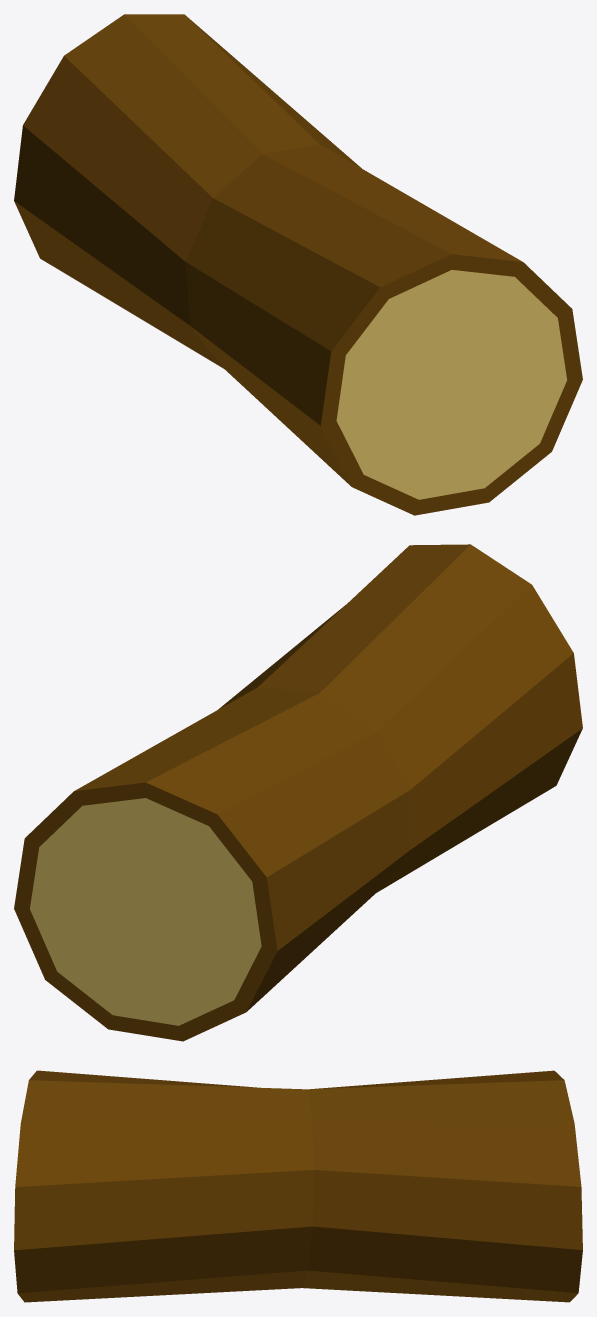
File: wood06.fbx
3 renders of one model, top to bottom at view 1: azimuth 30°, elevation 25°; view 2: azimuth 150°, elevation 25°; view 3: azimuth 270°, elevation 25°, orthographic. The views are drawn at different scales.
Visible parts, largest first — view 1: Cylinder.011; view 2: Cylinder.011; view 3: Cylinder.011.
Boxes of the visible parts, left/top/right/bottom form: Cylinder.011: left=14, top=14, right=582, bottom=515; Cylinder.011: left=14, top=544, right=582, bottom=1041; Cylinder.011: left=14, top=1070, right=582, bottom=1302.
Size of the model in its own units: 0.3548 by 0.3541 by 0.8761.
